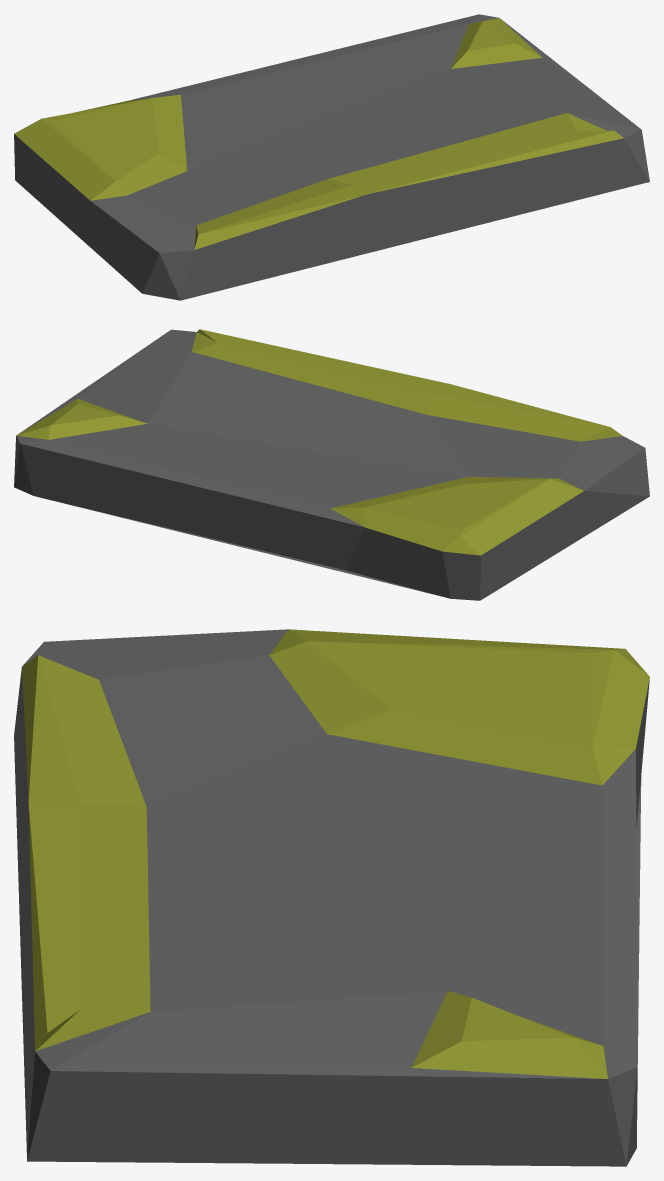
File: tile_moss_type_1_LOD3.fbx
The picture shows the model from 3 angles, top to bottom: view 1: azimuth 30°, elevation 25°; view 2: azimuth 150°, elevation 25°; view 3: azimuth 270°, elevation 25°; orthographic projection. The views are drawn at different scales.
Visible parts, largest first — view 1: tile_moss_type_1; view 2: tile_moss_type_1; view 3: tile_moss_type_1.
Part boxes in pixels (<box>): tile_moss_type_1: <box>14,14,649,300</box>; tile_moss_type_1: <box>14,329,649,600</box>; tile_moss_type_1: <box>14,629,649,1166</box>.
Size of the model in its own units: 199 by 22.98 by 118.
